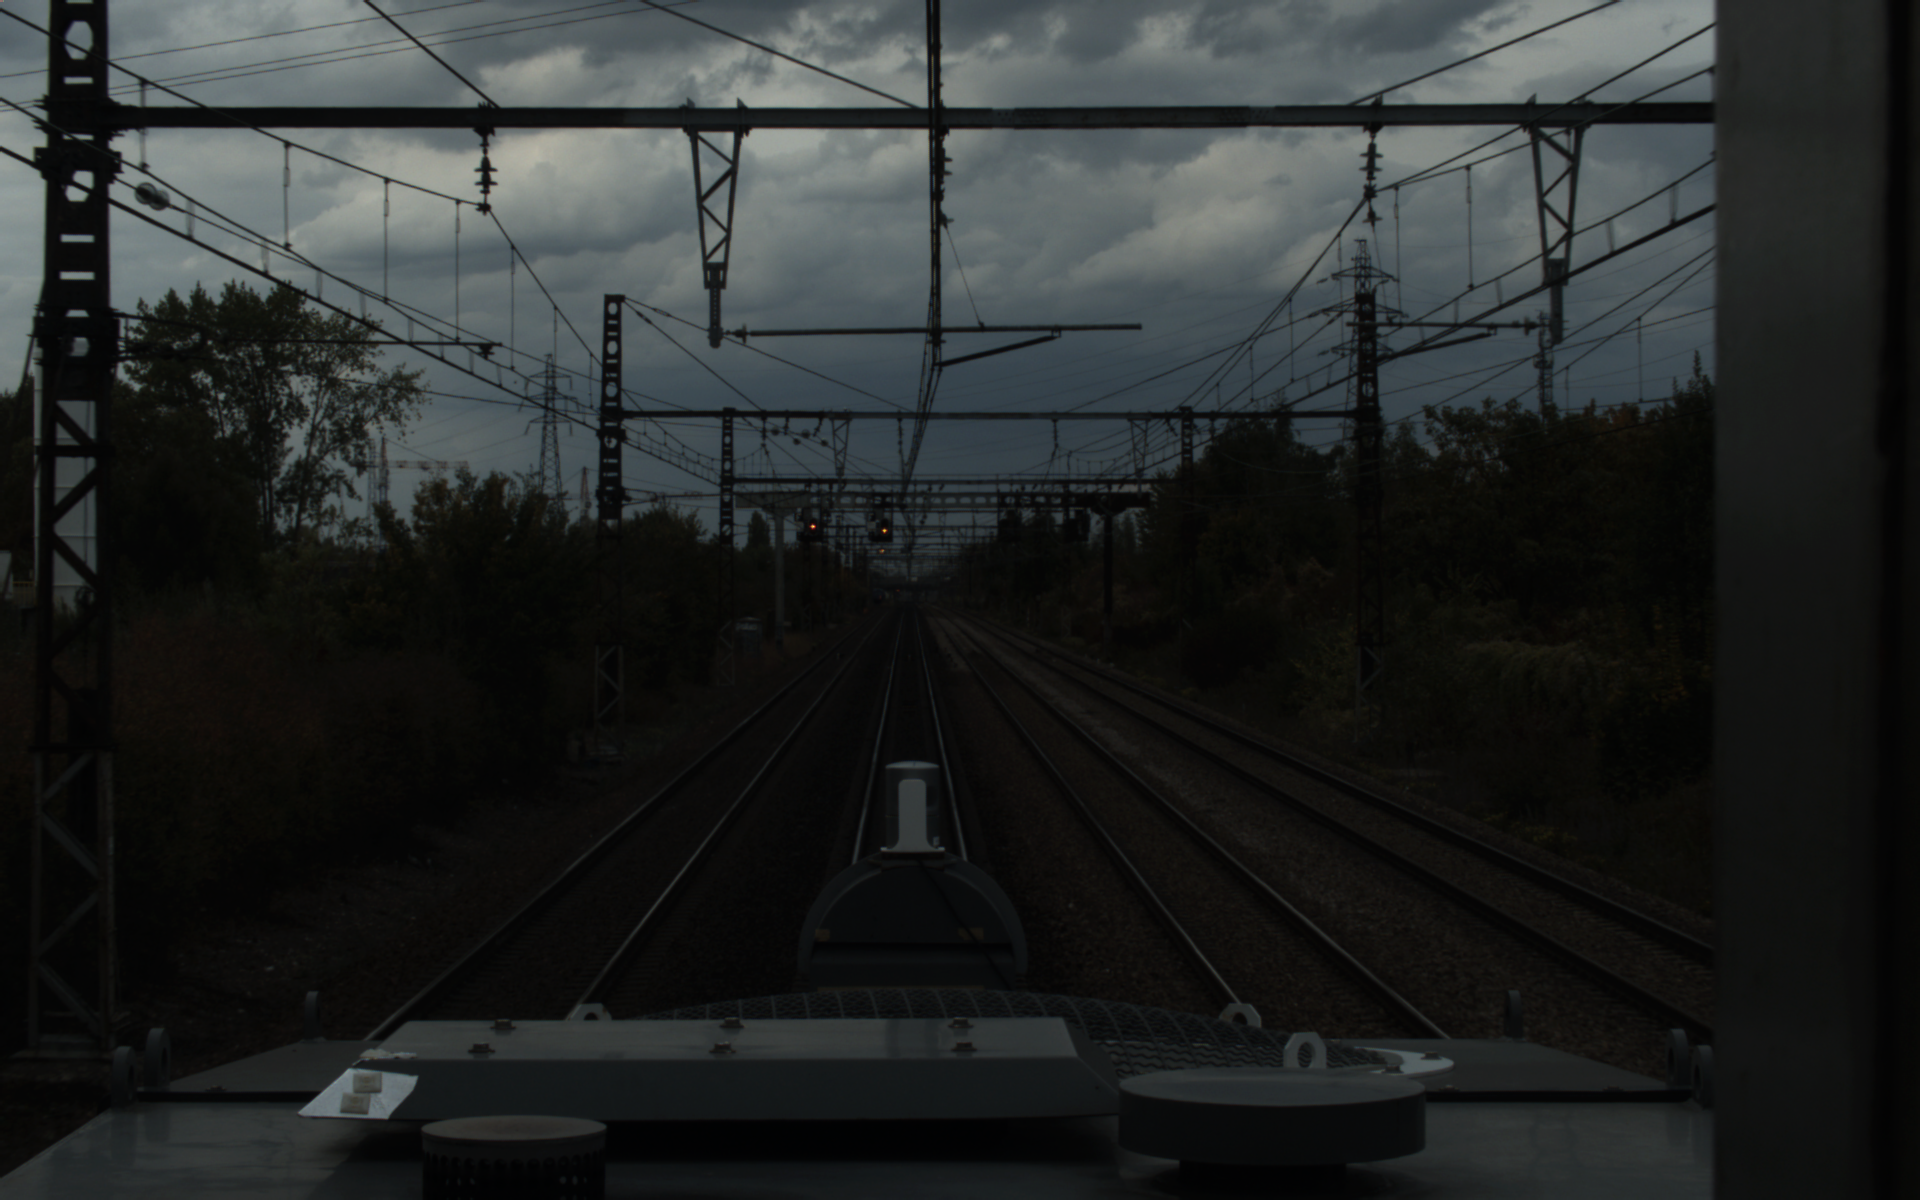Blinking: (878, 516, 892, 538), (806, 516, 818, 536)
